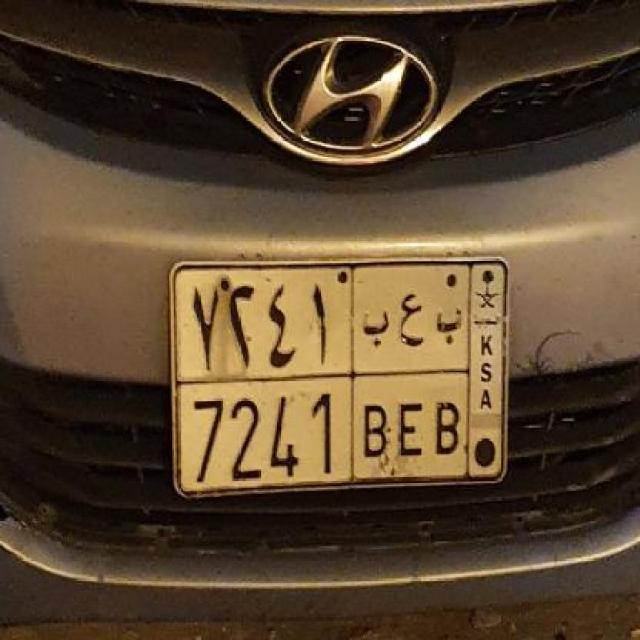license_plate: (167, 253, 511, 498)
